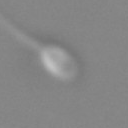normal: (1, 10, 40, 49)
